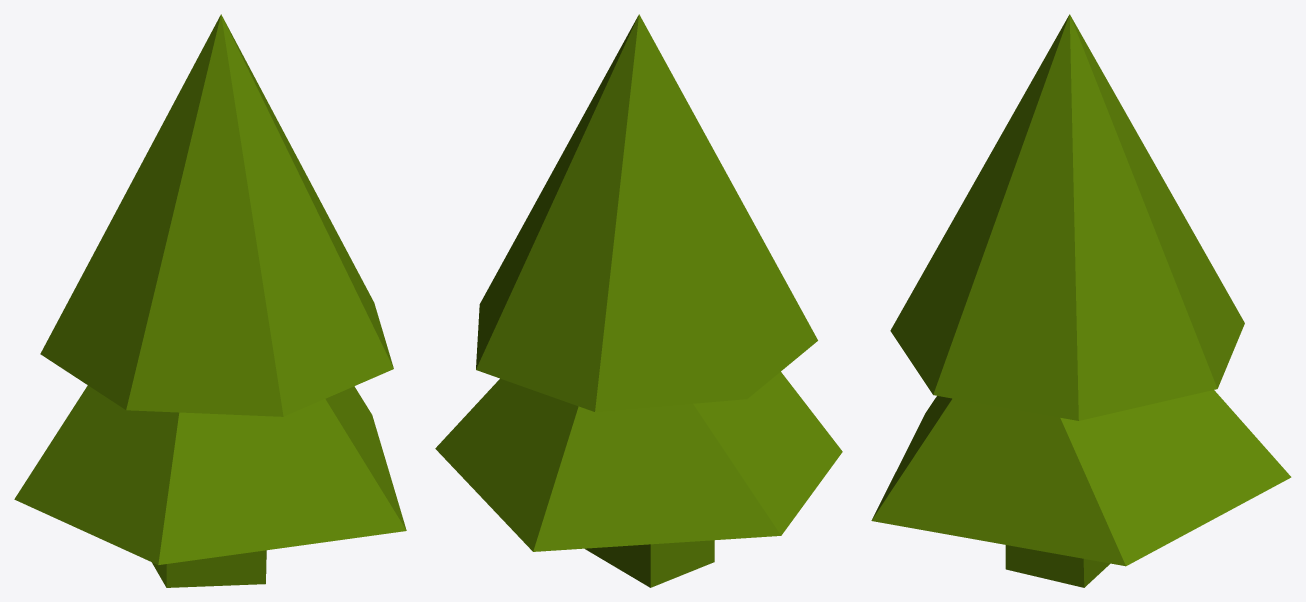
Rendered from SingleTree.fbx.
3 renders of one model, left to right at view 1: azimuth 30°, elevation 25°; view 2: azimuth 150°, elevation 25°; view 3: azimuth 270°, elevation 25°, orthographic.
Parts seen in each view (by area): view 1: Cone; view 2: Cone; view 3: Cone.
Boxes of the visible parts, left/top/right/bottom form: Cone: left=14, top=14, right=406, bottom=587; Cone: left=435, top=14, right=842, bottom=587; Cone: left=871, top=14, right=1291, bottom=587.
Size of the model in its own units: 225 by 333 by 231.
